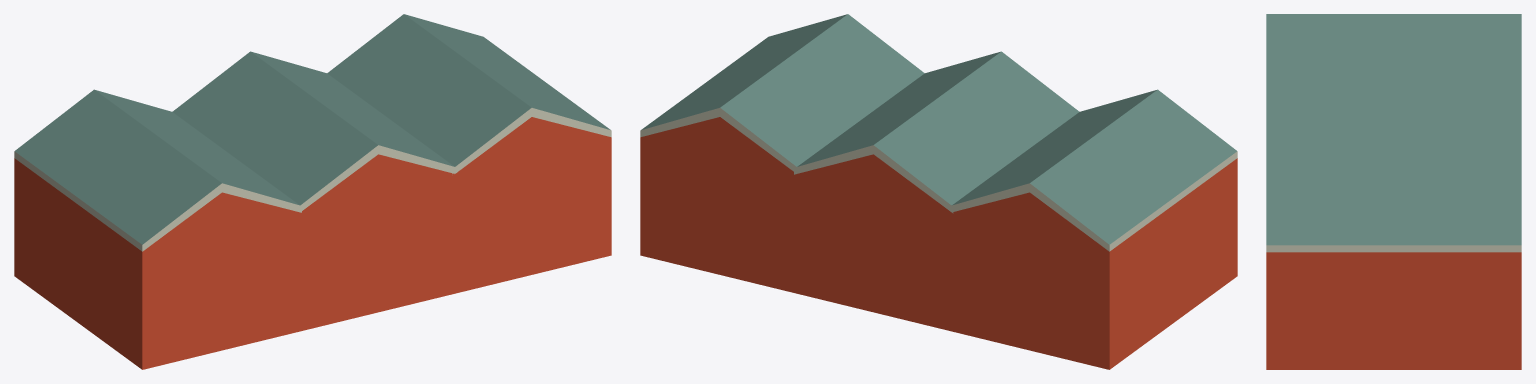
The model's file is Cafeteria.fbx.
The picture shows the model from 3 angles, left to right: view 1: azimuth 30°, elevation 25°; view 2: azimuth 150°, elevation 25°; view 3: azimuth 270°, elevation 25°; orthographic projection.
Parts seen in each view (by area): view 1: Cafeteria; view 2: Cafeteria; view 3: Cafeteria.
Boxes of the visible parts, bbox=[...] form: Cafeteria: bbox=[14, 14, 611, 369]; Cafeteria: bbox=[640, 14, 1237, 369]; Cafeteria: bbox=[1266, 14, 1521, 369].
Size of the model in its own units: 274 by 93.41 by 130.
